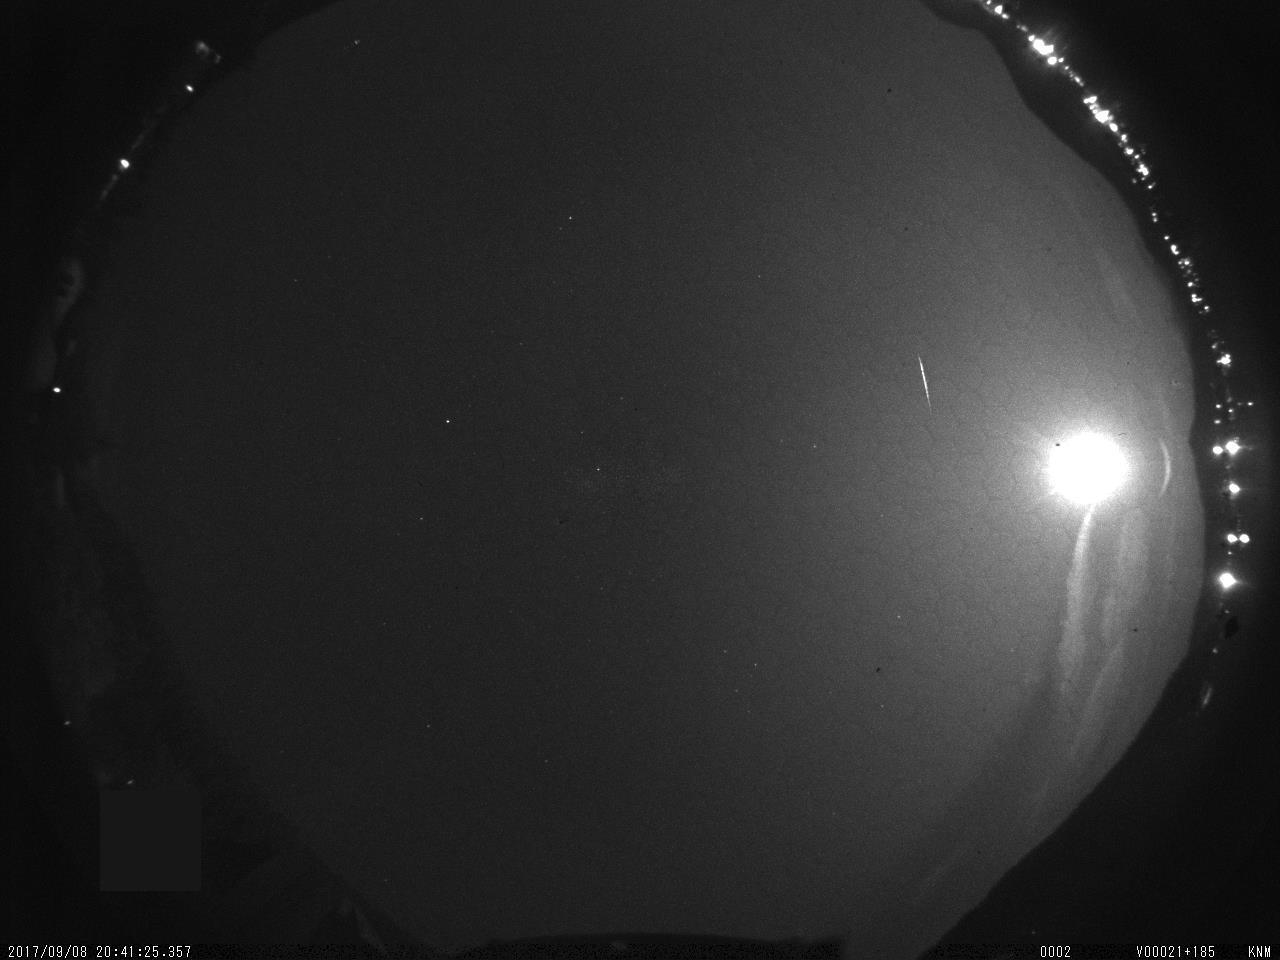Meteor: (909, 349, 941, 419)
